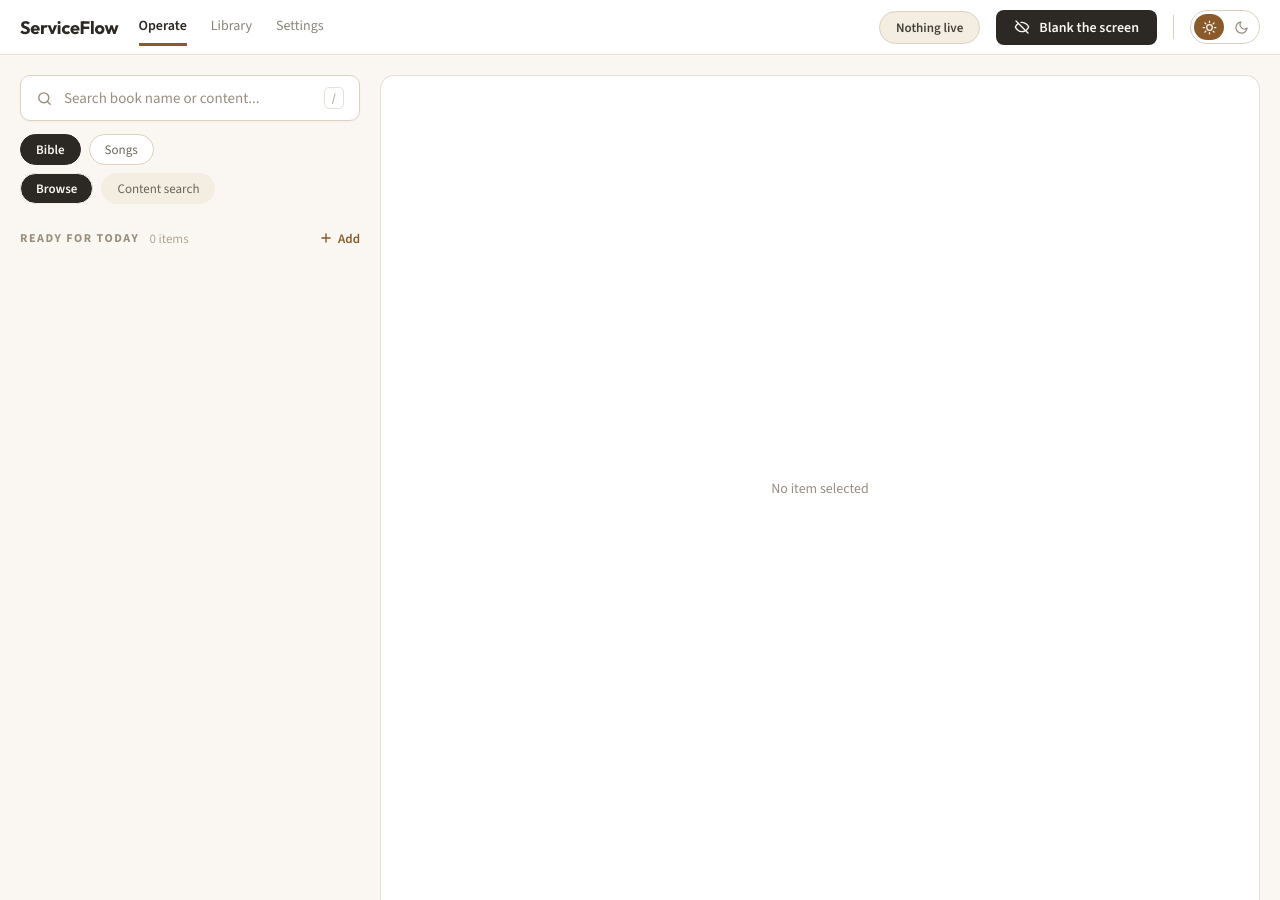
Test: App › switches to the settings view
Click the button "Settings". click: [300, 27]
box: top-left (276, 8), bottom-right (324, 46)
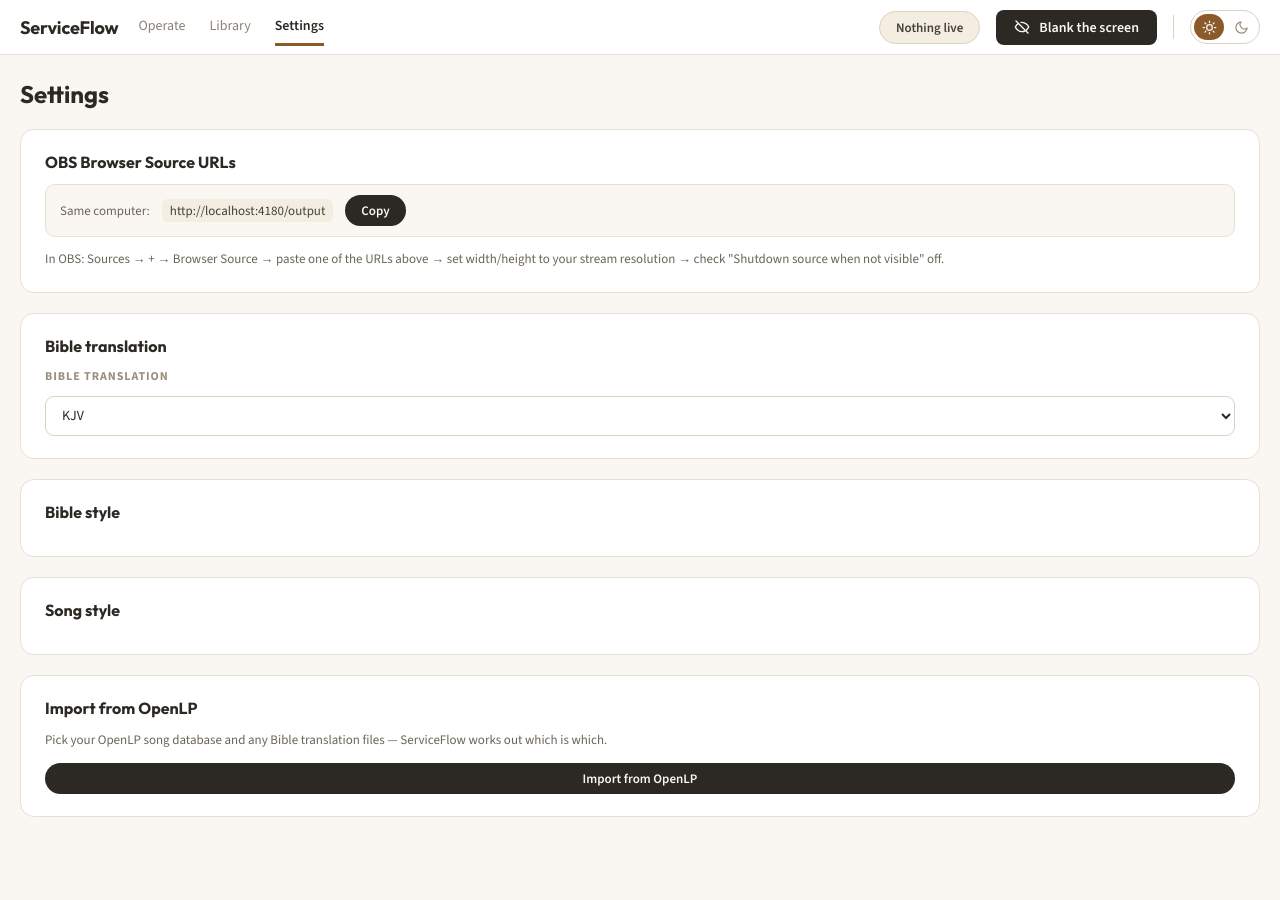
Now the heading "OBS Browser Source URLs" is shown, box top-left (45, 152), bottom-right (236, 172)
